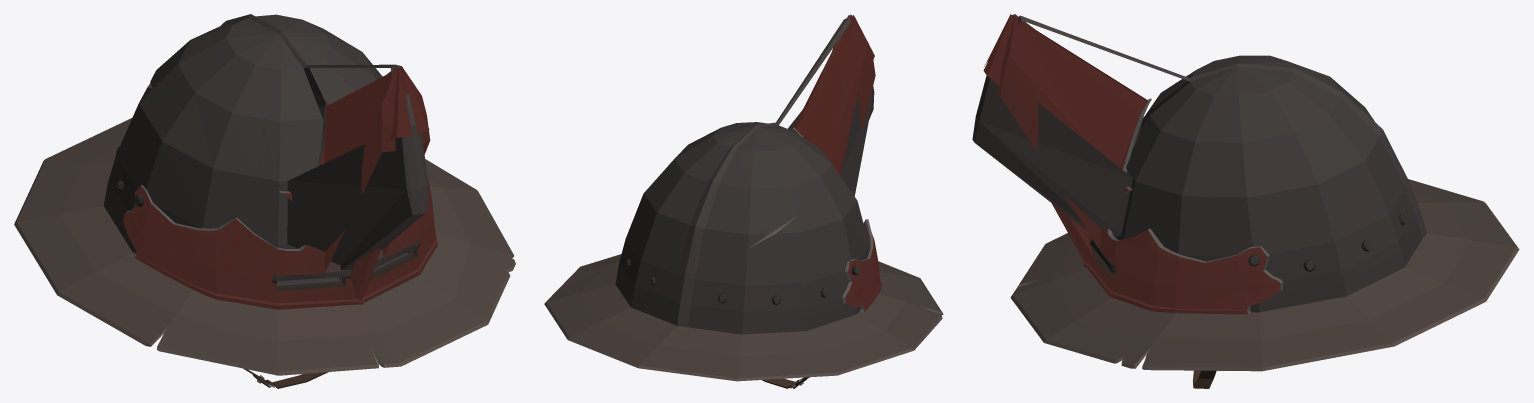
File: bucketHelmet.glb
3 views of the same model, side by side, from view 1: azimuth 30°, elevation 25°; view 2: azimuth 150°, elevation 25°; view 3: azimuth 270°, elevation 25° (orthographic). The views are drawn at different scales.
Parts seen in each view (by area): view 1: bucketHelmet; view 2: bucketHelmet; view 3: bucketHelmet.
Boxes of the visible parts, x1,y1,x2,y2 form: bucketHelmet: [14, 14, 515, 388]; bucketHelmet: [544, 14, 943, 388]; bucketHelmet: [972, 14, 1519, 388].
Bounding box in the file's own units: 0.4766 × 0.4187 × 0.5658.
